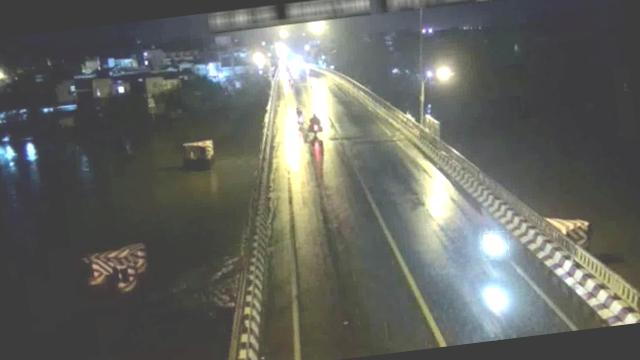Bike: (478, 230, 511, 261), (304, 112, 325, 140), (296, 105, 308, 127)
